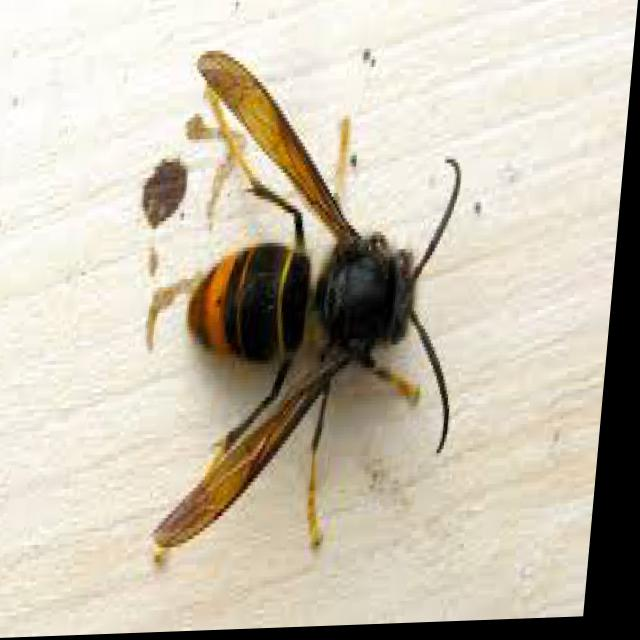Vespa Velutina: (115, 33, 491, 569)
